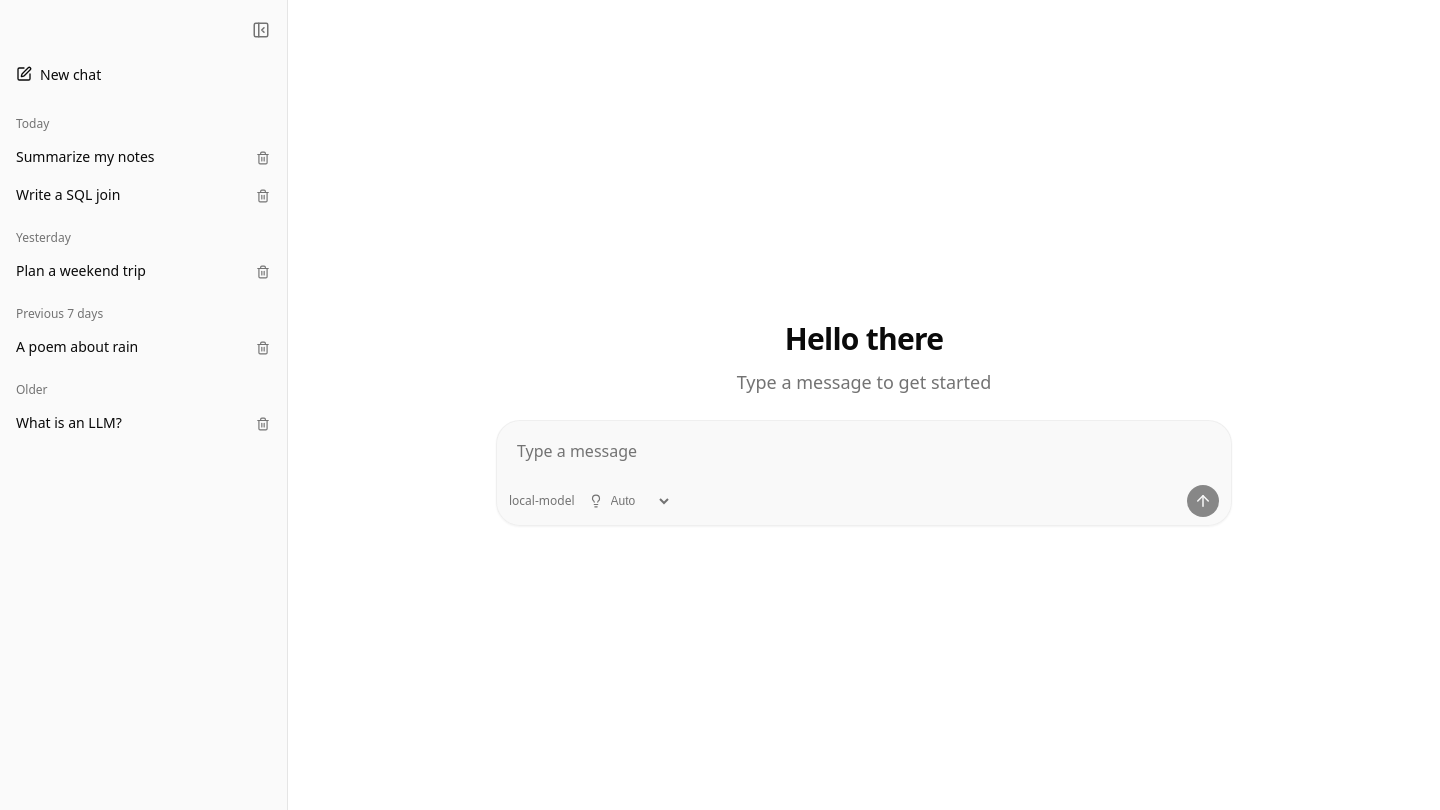
Test: a failed delete says why, in its row, and keeps the conversation
Expected: the link "New chat" is shown, [16,64,101,84]
Click the button named "Delete “Summarize my notes”". click: {"x": 263, "y": 158}
box: [247,142,279,174]
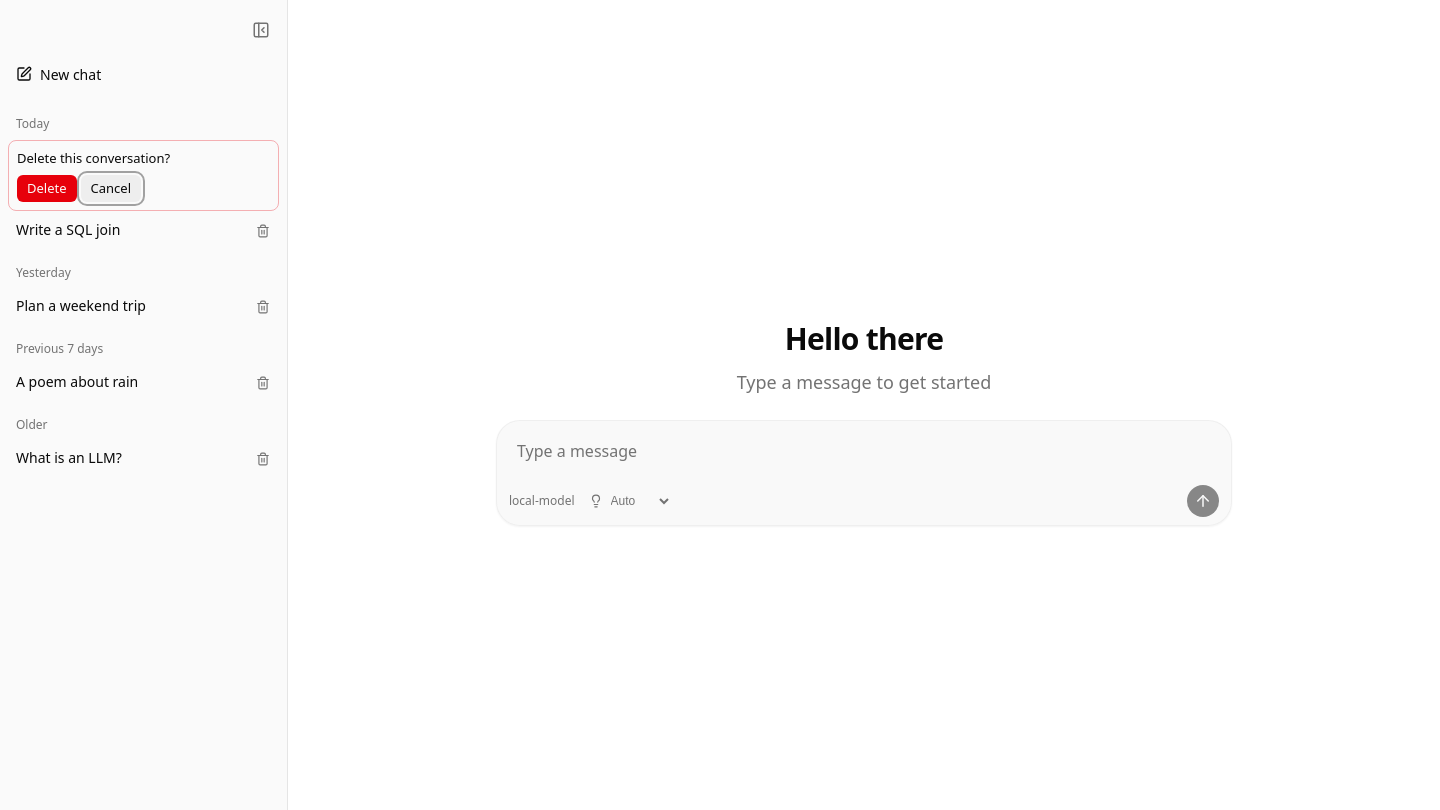
Click the button "Delete". click: {"x": 47, "y": 188}
box: [17,174,76,202]
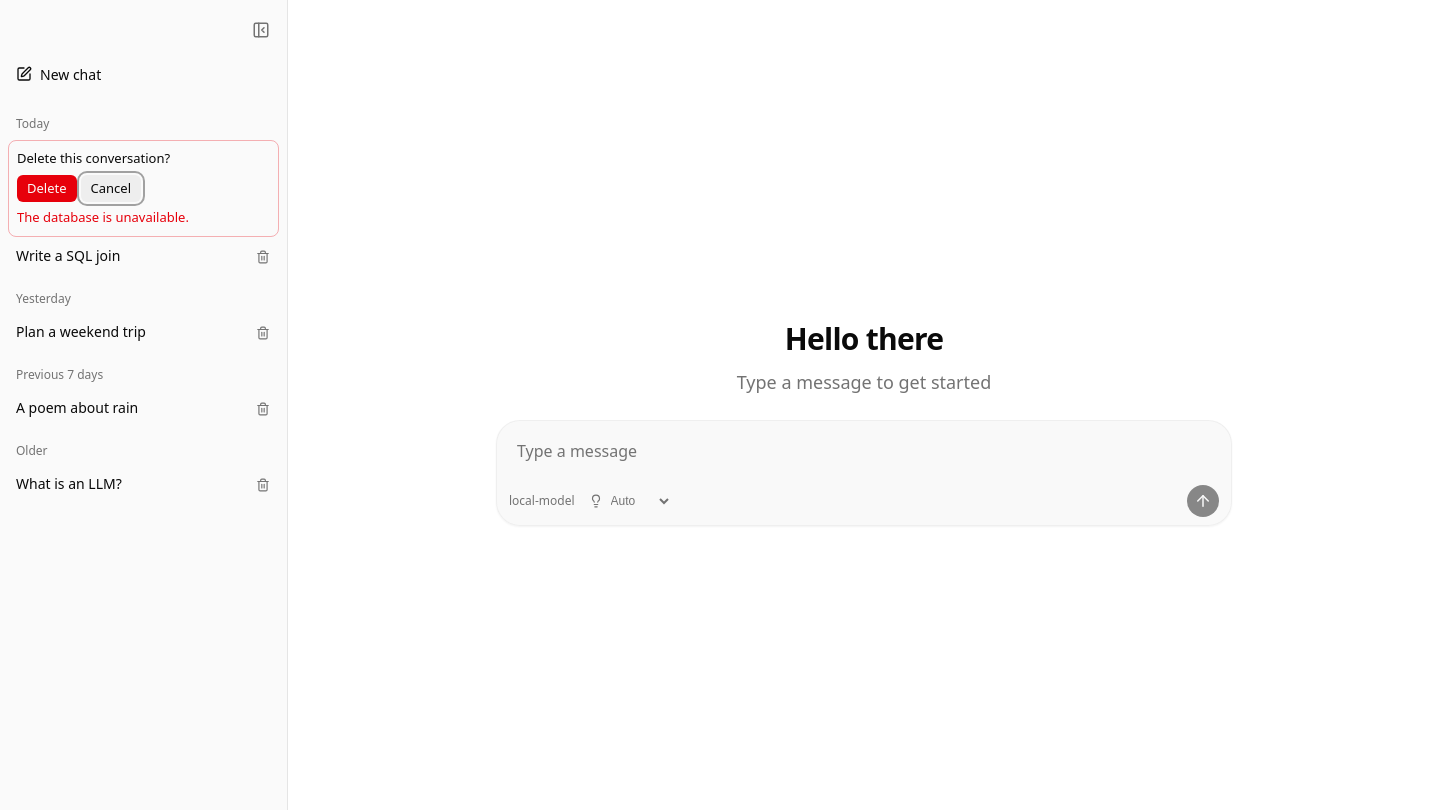
Expected: the button "Delete" is enabled, [17,174,76,202]
Expected: the message reads "The database is unavailable.", [17,208,189,226]
